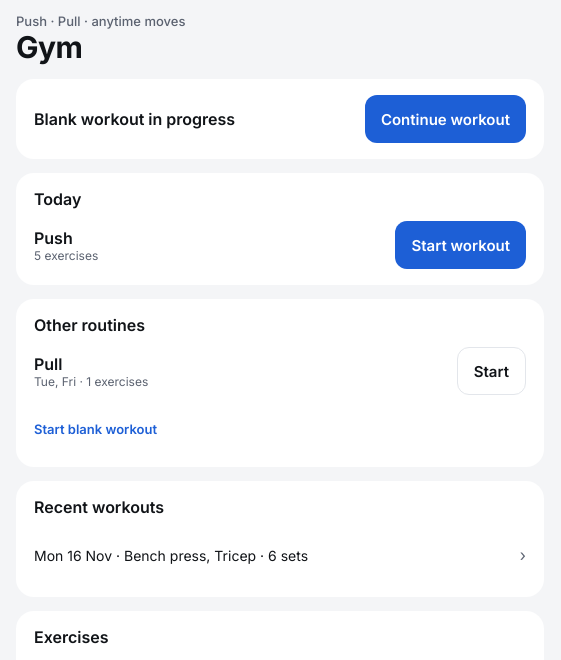
Test case: stage 3 review fixes › an open blank workout reads naturally in the question
Step 1. Click the button "Start workout" → (461, 245), box 396,221 -> 526,269
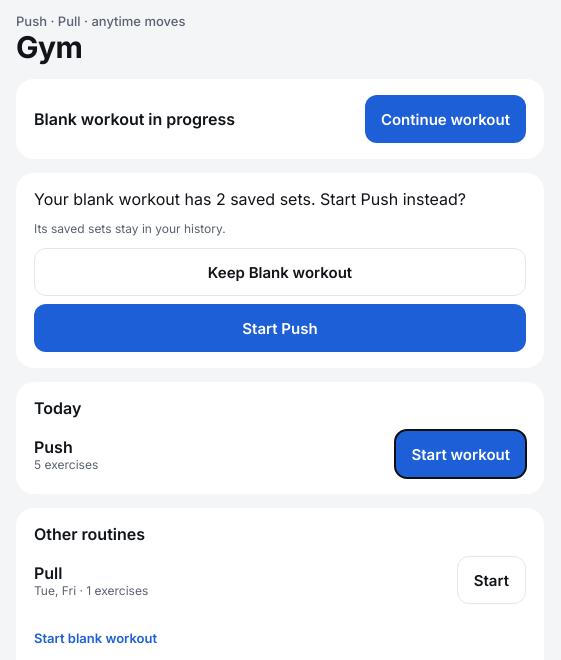
Expected: the element named "Switch workout" shows "Your blank workout has 2 saved sets. Start Push instead?", 34,189 -> 466,209
